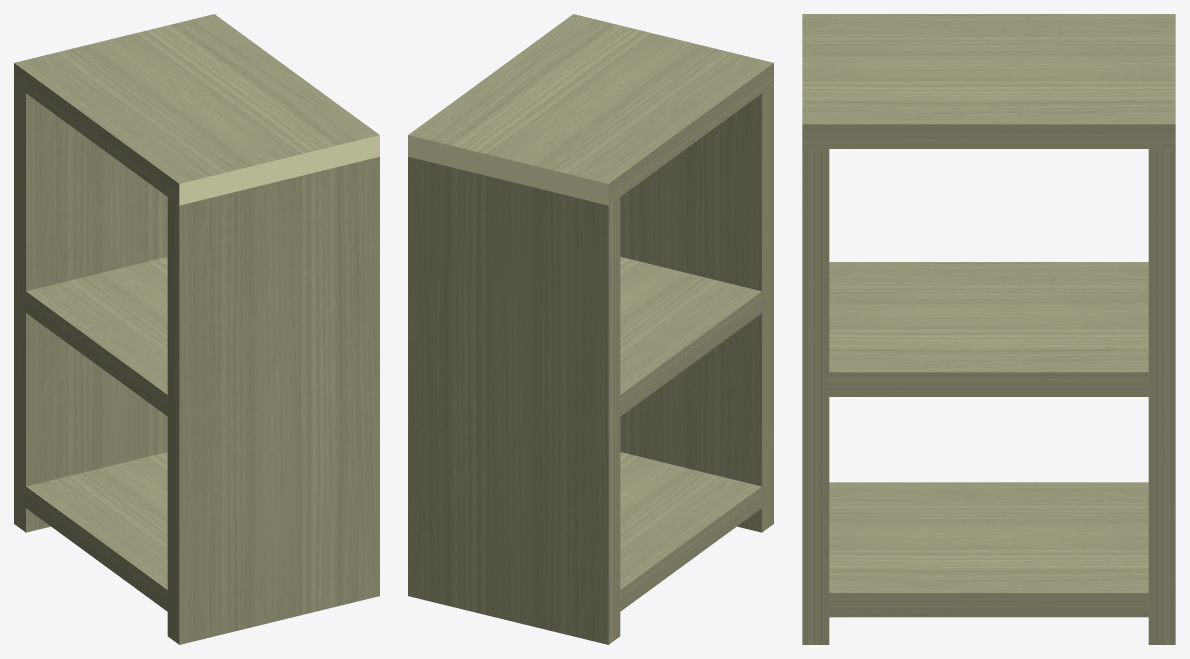
Rendered from asset.glb.
3 views of the same model, side by side, from view 1: azimuth 30°, elevation 25°; view 2: azimuth 150°, elevation 25°; view 3: azimuth 270°, elevation 25° (orthographic). The views are drawn at different scales.
Size of the model in its own units: 0.184 by 0.4045 by 0.263.
Materials: 30 (20 with a texture image).
